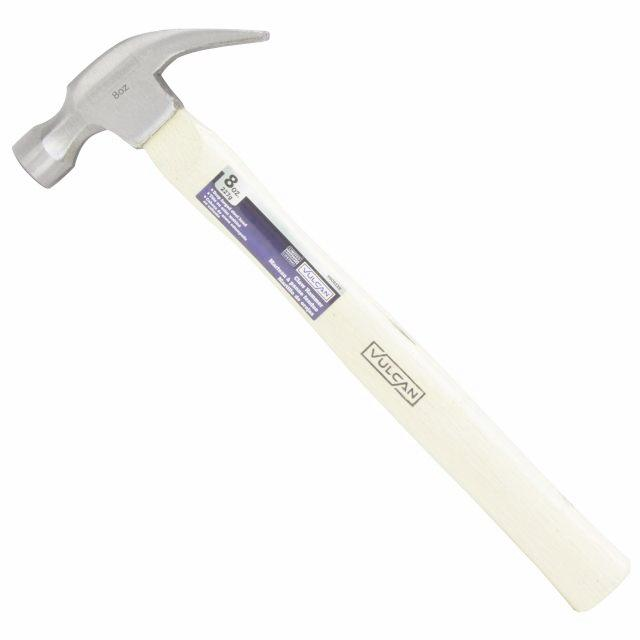hammer: (7, 21, 636, 622)
